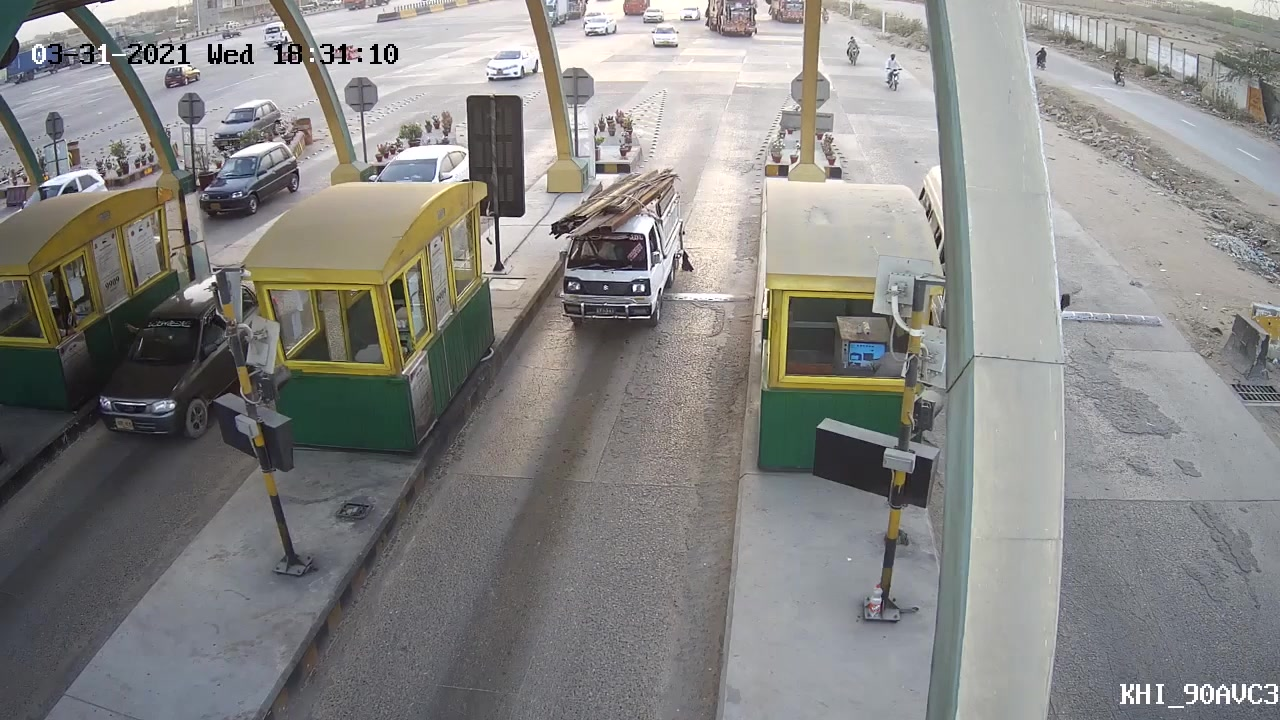F1: (548, 168, 693, 336)
